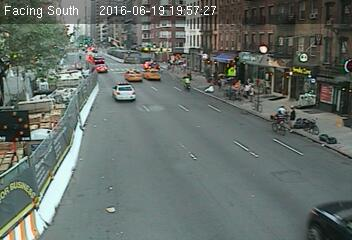neg: (266, 146, 301, 193), (87, 168, 117, 208), (46, 118, 75, 158), (109, 79, 138, 117), (193, 149, 221, 186), (303, 62, 330, 98), (219, 100, 244, 134), (154, 124, 179, 157), (170, 205, 195, 238), (271, 102, 295, 134), (259, 54, 283, 85), (171, 60, 193, 89), (141, 29, 161, 56), (84, 57, 101, 80)
